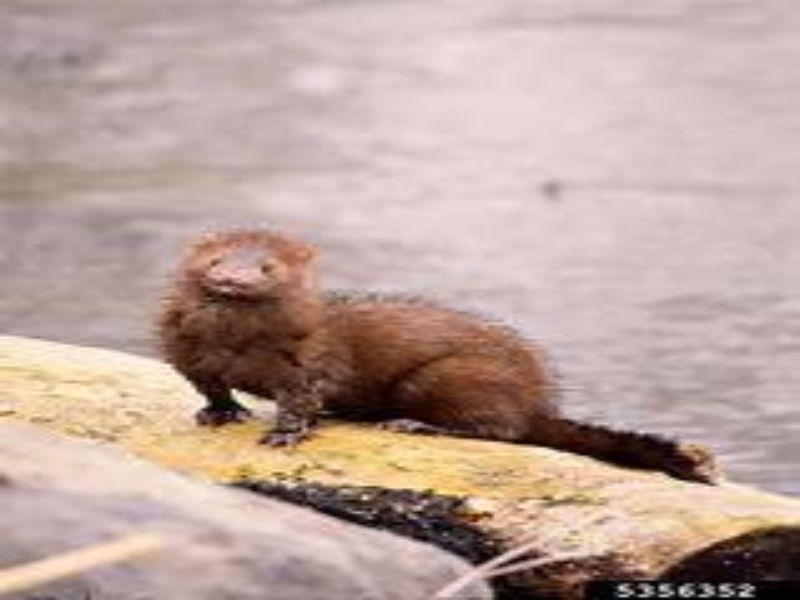minkish: (152, 218, 722, 486)
